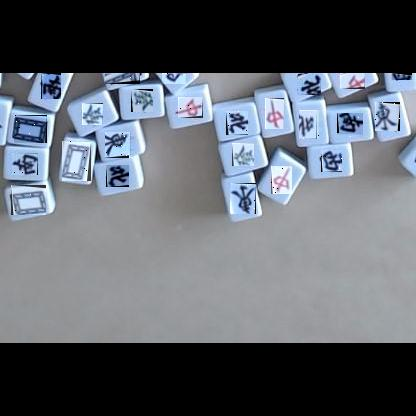1z: (230, 183, 256, 214), (106, 132, 134, 158), (375, 102, 400, 131)
2z: (337, 113, 363, 138), (12, 153, 38, 175), (41, 73, 61, 99)
3z: (321, 150, 342, 172), (162, 73, 186, 84), (391, 73, 412, 80)
4z: (300, 110, 322, 139), (297, 73, 321, 95), (226, 111, 248, 135), (106, 165, 129, 187)
5z: (62, 141, 91, 181), (11, 185, 46, 215), (14, 115, 47, 143), (104, 73, 140, 84)
6z: (131, 89, 153, 112), (232, 143, 254, 166), (82, 103, 103, 125)
7z: (265, 98, 284, 129), (271, 166, 292, 194), (178, 97, 203, 118), (340, 73, 365, 89)
